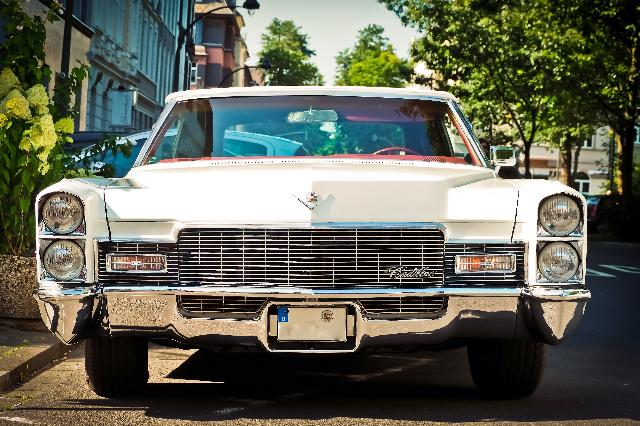cadillac: (33, 86, 591, 398)
